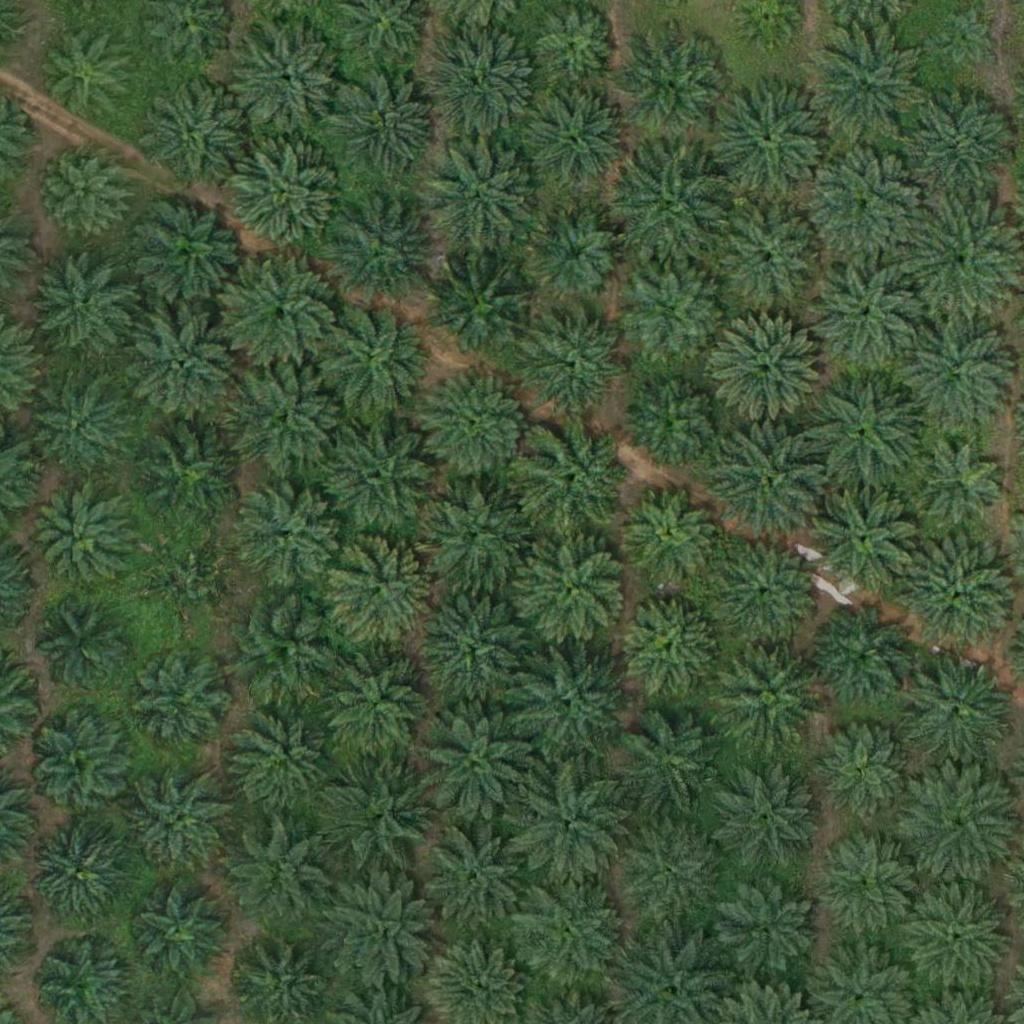Kelapa_Sawit: (428, 250, 541, 364), (136, 75, 249, 189), (313, 302, 426, 416), (420, 368, 533, 482), (518, 421, 631, 535), (515, 532, 628, 646), (616, 704, 729, 818), (806, 24, 919, 137), (810, 147, 923, 260), (712, 84, 825, 197), (424, 26, 537, 139), (425, 141, 538, 254), (128, 196, 241, 309), (127, 311, 240, 424), (130, 417, 243, 530), (228, 599, 341, 712), (416, 481, 529, 594), (712, 314, 825, 427), (805, 259, 918, 372), (808, 373, 921, 486), (809, 478, 922, 591), (903, 538, 1016, 651), (900, 654, 1013, 767), (905, 768, 1018, 881), (613, 817, 726, 930), (513, 648, 626, 761), (515, 770, 628, 883), (320, 872, 433, 985), (323, 190, 435, 304), (233, 21, 345, 135), (229, 142, 341, 256), (710, 639, 822, 753), (906, 882, 1018, 996), (709, 763, 821, 877), (904, 89, 1016, 202), (906, 202, 1018, 315), (712, 203, 824, 316), (616, 30, 728, 143), (615, 152, 727, 265), (518, 88, 630, 201), (328, 73, 440, 186), (224, 257, 336, 370), (229, 361, 341, 474), (230, 479, 342, 592), (325, 420, 437, 533), (326, 535, 438, 648), (423, 588, 535, 701), (710, 427, 822, 540), (708, 537, 820, 650), (900, 320, 1012, 433), (516, 876, 628, 989), (421, 707, 533, 820), (418, 818, 530, 931), (321, 651, 433, 764), (324, 766, 436, 879), (126, 766, 238, 879), (526, 205, 626, 306), (35, 252, 135, 353), (24, 377, 124, 478), (33, 497, 133, 598), (32, 594, 132, 695), (626, 260, 726, 361), (627, 370, 727, 471), (811, 605, 911, 706), (911, 438, 1011, 539), (228, 710, 328, 811), (225, 823, 325, 924), (135, 649, 235, 750), (128, 883, 228, 984), (30, 713, 130, 814), (25, 818, 125, 919), (34, 21, 134, 121), (529, 310, 629, 410), (625, 485, 725, 585), (621, 597, 721, 697), (812, 724, 912, 824), (817, 838, 917, 938), (720, 882, 820, 982), (151, 541, 238, 630), (43, 148, 130, 236), (933, 5, 995, 68)
